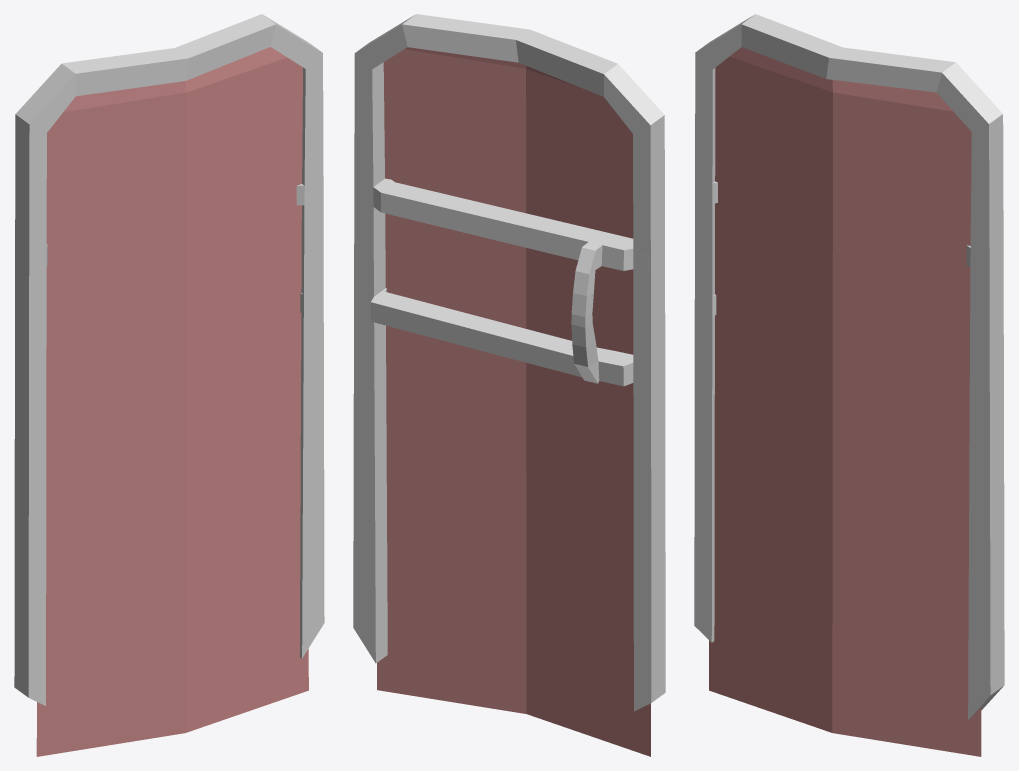
The model's file is Shield.fbx.
3 renders of one model, left to right at view 1: azimuth 30°, elevation 25°; view 2: azimuth 150°, elevation 25°; view 3: azimuth 330°, elevation 25°, orthographic.
Visible parts, largest first — view 1: Shield; view 2: Shield; view 3: Shield.
Boxes of the visible parts, <box> form: Shield: <box>14,14,324,756</box>; Shield: <box>353,14,665,756</box>; Shield: <box>694,14,1004,756</box>.
Size of the model in its own units: 55.47 by 121 by 16.21.
